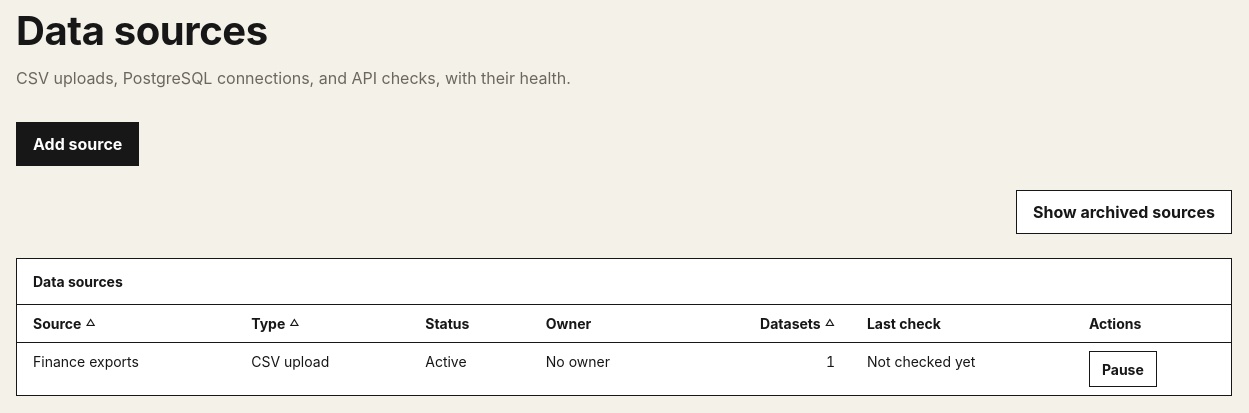
Test: Source actions › lets a data engineer pause a source and shows the new state
Step 1. Click the button with aria-label "Pause Finance exports" → (1123, 369), box [1089,351,1157,387]
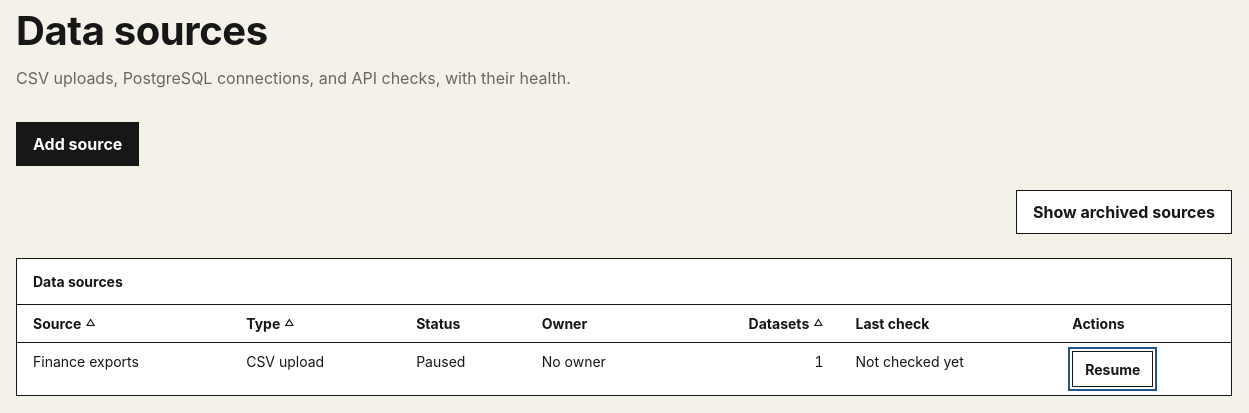
Now the button with aria-label "Resume Finance exports" is shown, box [1072,351,1153,387]
Now the cell "Paused" is shown, box [400,342,526,395]
